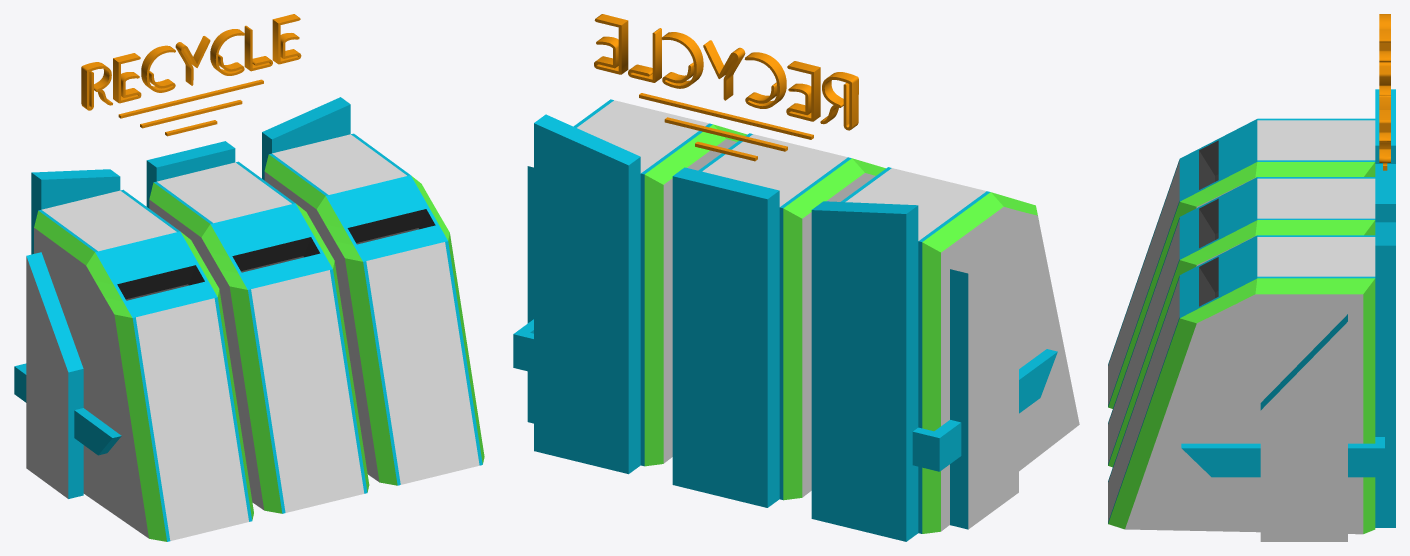
Rendered from trashbin.fbx.
The picture shows the model from 3 angles, left to right: view 1: azimuth 30°, elevation 25°; view 2: azimuth 150°, elevation 25°; view 3: azimuth 270°, elevation 25°; orthographic projection. The views are drawn at different scales.
Parts seen in each view (by area): view 1: trashbin, recycle_text; view 2: trashbin, recycle_text; view 3: trashbin, recycle_text.
Boxes of the visible parts, x1,y1,x2,y2 form: trashbin: (14,97,484,541); recycle_text: (81,14,301,136); trashbin: (513,99,1079,541); recycle_text: (594,14,858,161); trashbin: (1108,89,1395,541); recycle_text: (1379,14,1390,170).
Size of the model in its own units: 143 by 138 by 94.27.
